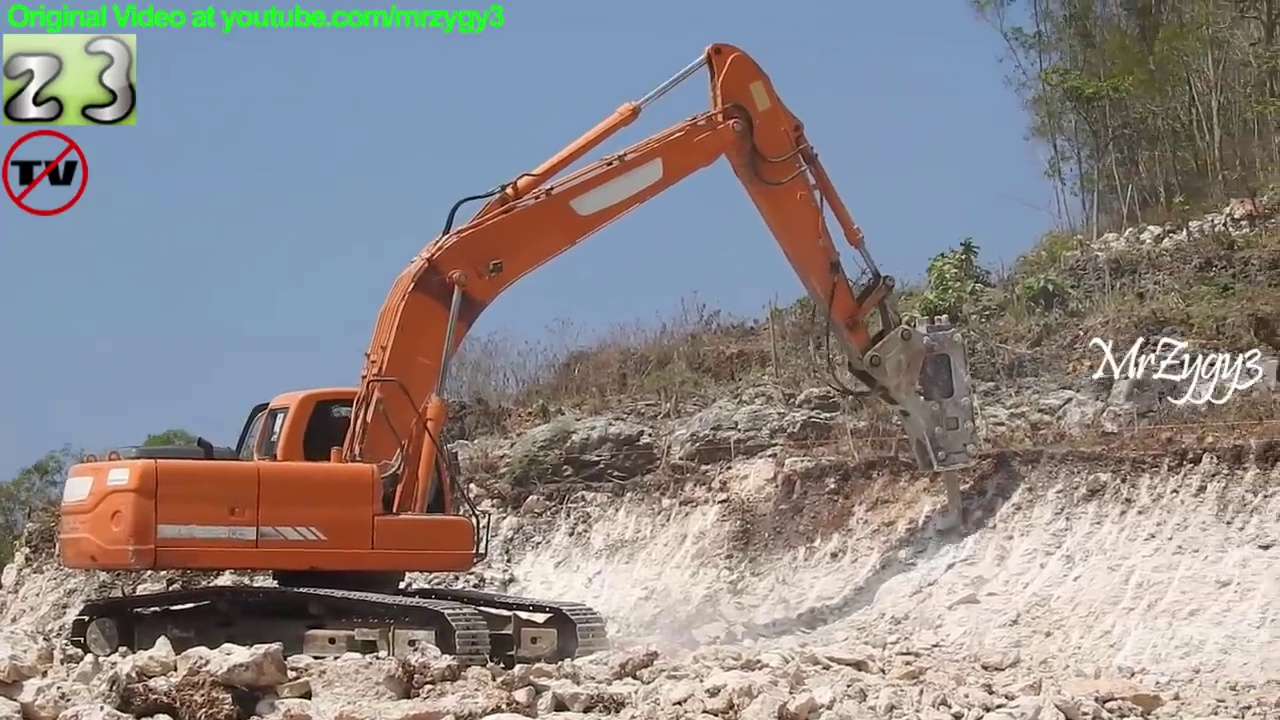excavator breaker: (46, 41, 995, 695)
